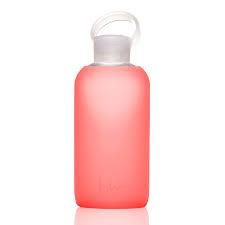Container for household chemicals: (67, 5, 157, 219)
